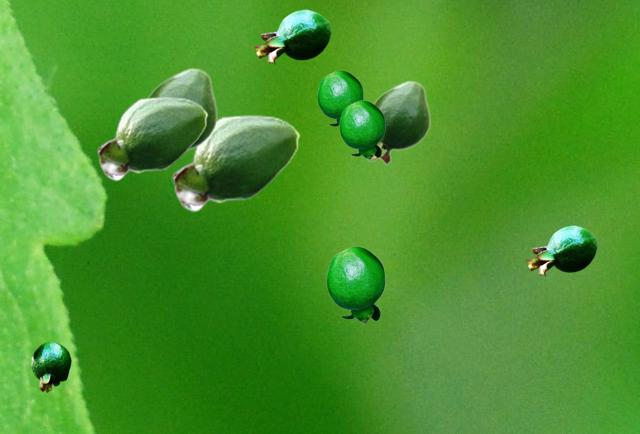guava: (172, 114, 299, 211), (97, 96, 207, 180), (147, 67, 216, 169), (367, 80, 429, 164), (326, 246, 384, 322), (254, 9, 330, 63), (526, 225, 596, 275), (339, 100, 384, 158), (317, 70, 362, 127), (31, 341, 70, 391)
